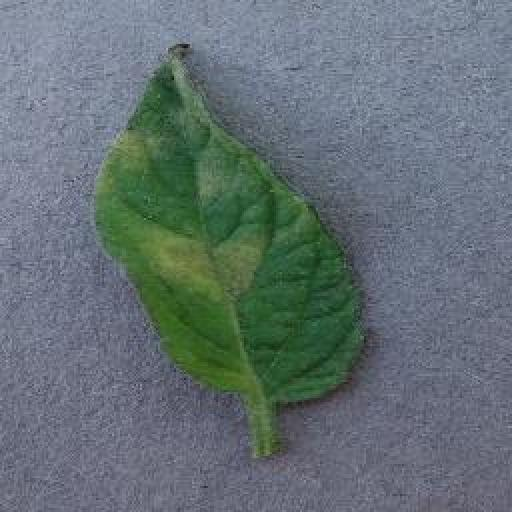Leaf Mold: (96, 44, 371, 404)
